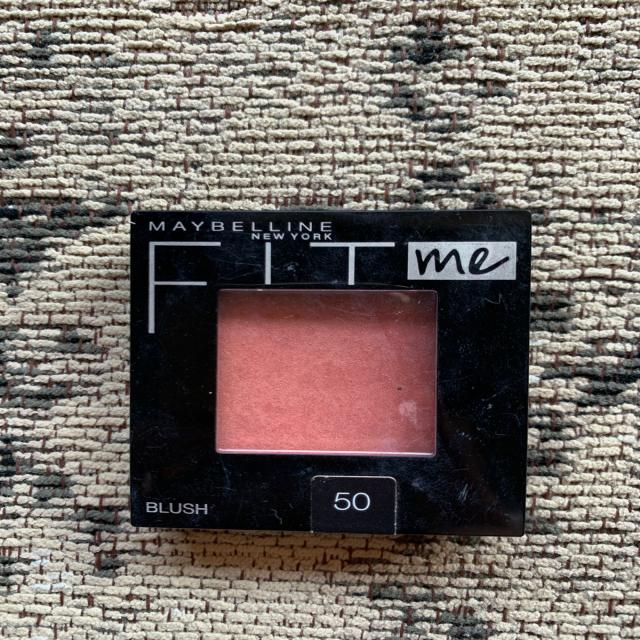blush: (179, 271, 461, 468)
